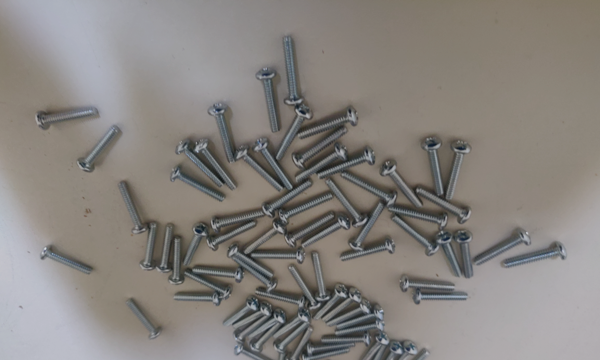longscrew: (293, 123, 350, 172), (474, 228, 533, 267), (196, 140, 240, 191), (295, 107, 359, 142), (178, 139, 223, 188), (318, 148, 377, 185), (382, 161, 427, 209), (295, 146, 348, 184), (79, 125, 120, 174), (40, 244, 90, 284), (418, 187, 471, 224), (396, 215, 438, 261), (278, 194, 333, 229), (264, 182, 319, 217), (238, 147, 281, 191), (257, 139, 294, 190), (259, 68, 288, 133), (117, 181, 153, 233), (172, 165, 222, 202), (501, 242, 569, 269), (224, 241, 274, 277), (330, 180, 369, 226), (279, 105, 310, 160), (423, 135, 451, 195), (206, 220, 258, 252), (345, 173, 396, 205), (232, 258, 277, 293), (351, 204, 385, 250), (212, 104, 238, 163), (303, 214, 348, 248), (286, 214, 331, 248), (183, 269, 230, 301), (281, 31, 300, 107), (323, 287, 361, 325), (33, 108, 106, 127), (127, 299, 160, 340), (291, 266, 322, 308), (338, 240, 396, 262), (436, 232, 463, 279), (388, 206, 448, 227), (331, 308, 383, 332), (246, 244, 305, 265), (324, 298, 371, 324), (210, 210, 266, 230), (449, 142, 468, 200), (234, 314, 274, 341), (253, 287, 304, 308), (455, 230, 477, 278), (315, 288, 347, 321), (248, 223, 282, 254), (221, 299, 258, 327), (312, 250, 330, 305), (411, 292, 468, 309), (397, 278, 454, 295), (248, 313, 285, 339), (189, 265, 242, 283), (233, 306, 272, 330), (275, 326, 308, 354), (272, 313, 310, 336), (141, 220, 156, 274), (357, 333, 387, 360), (184, 222, 200, 271), (290, 327, 313, 360), (323, 332, 370, 348), (336, 320, 382, 336), (307, 342, 354, 357), (253, 327, 280, 352), (160, 221, 172, 277), (232, 345, 275, 360), (169, 293, 219, 305), (171, 235, 182, 287), (389, 342, 419, 360), (363, 342, 392, 360), (301, 350, 348, 360), (374, 344, 403, 360), (398, 352, 427, 360), (272, 351, 285, 360)
